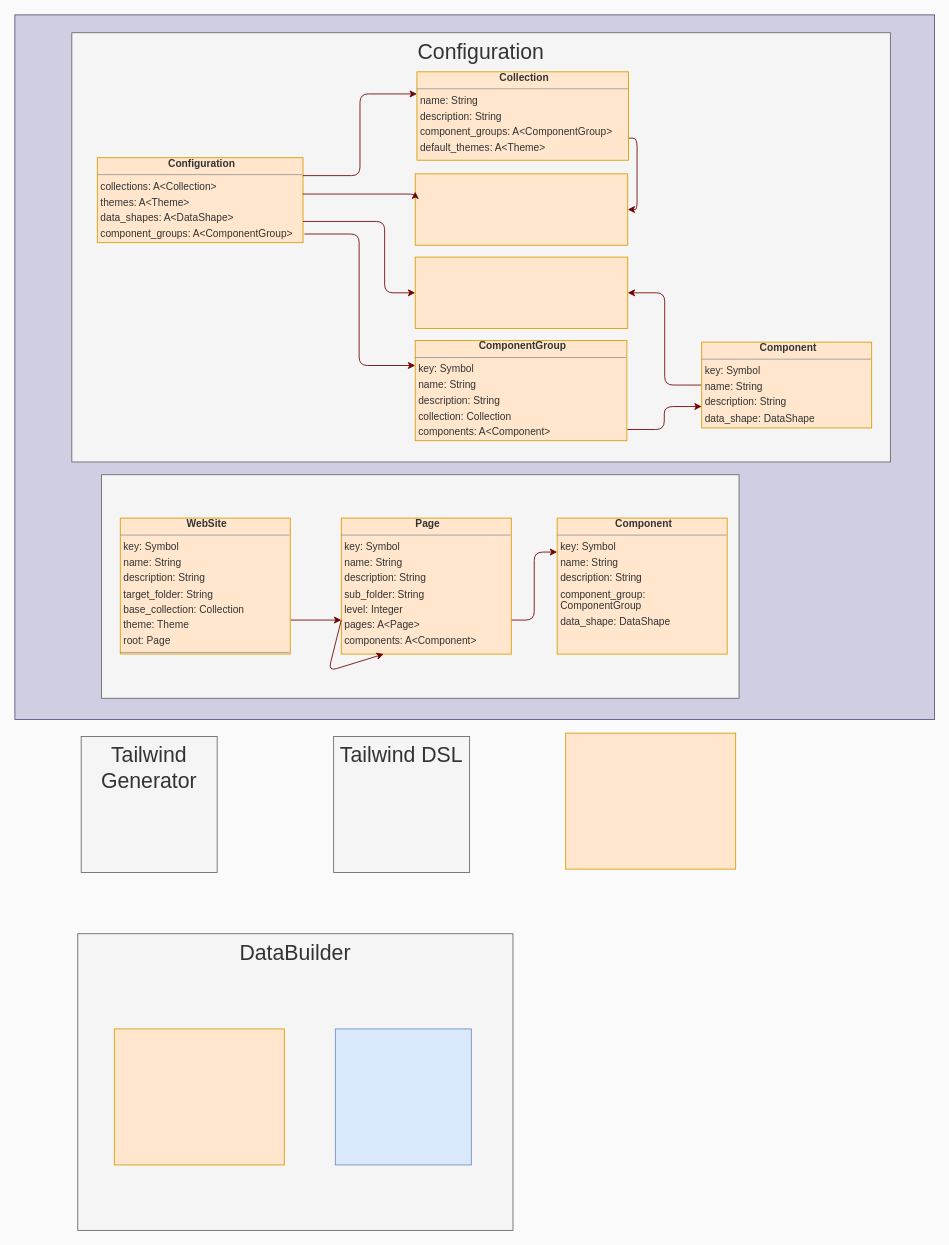
This 949x1245 diagram has some shape labels left out. The shapes that lost their labels are listed below. From the top down, each one's box as (x1, y1, x2, y2) in pixels, then its label:
(414, 173, 628, 245): Theme key: Symbol name: String description: String
(414, 256, 628, 329): DataShape key: Symbol name: String description: String
(101, 474, 739, 698): Schema
(565, 732, 736, 869): TailwindDsl website() page() component() save()
(113, 1028, 284, 1165): BaseDataBuilder obj: Hash
(334, 1028, 471, 1165): << MixIn >> Factory data() data_instance()
